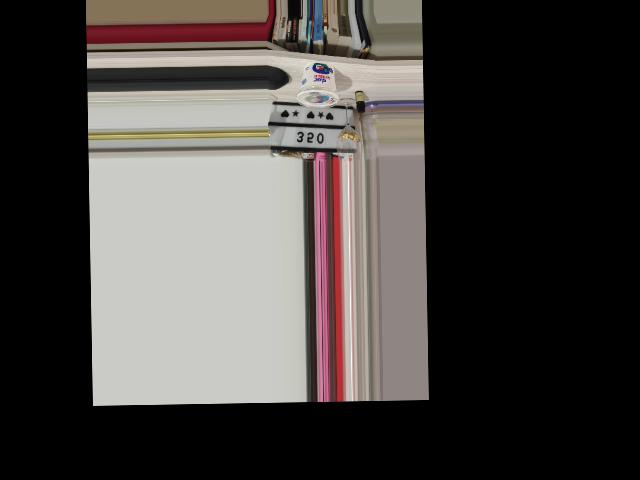cotage: (299, 59, 336, 109)
